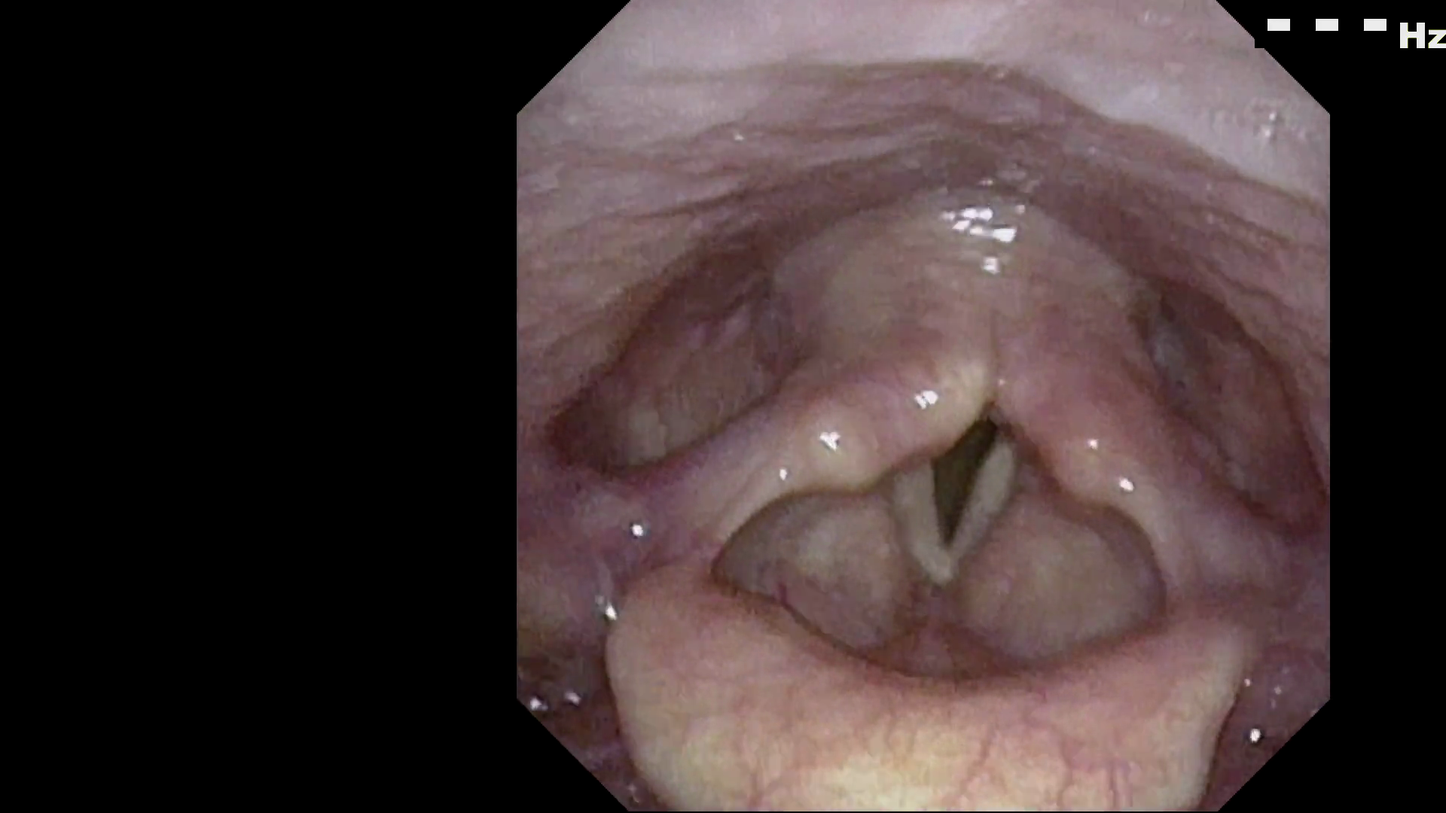epiglottis: (599, 524, 1238, 768)
trachea: (876, 377, 1055, 602)
